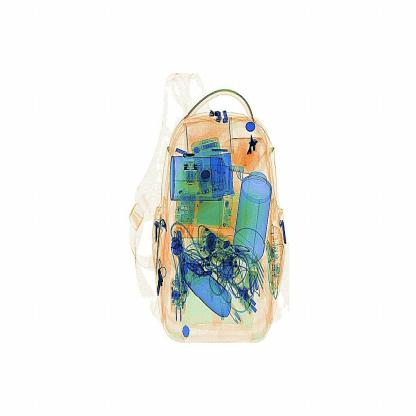gun: (239, 130, 269, 165)
